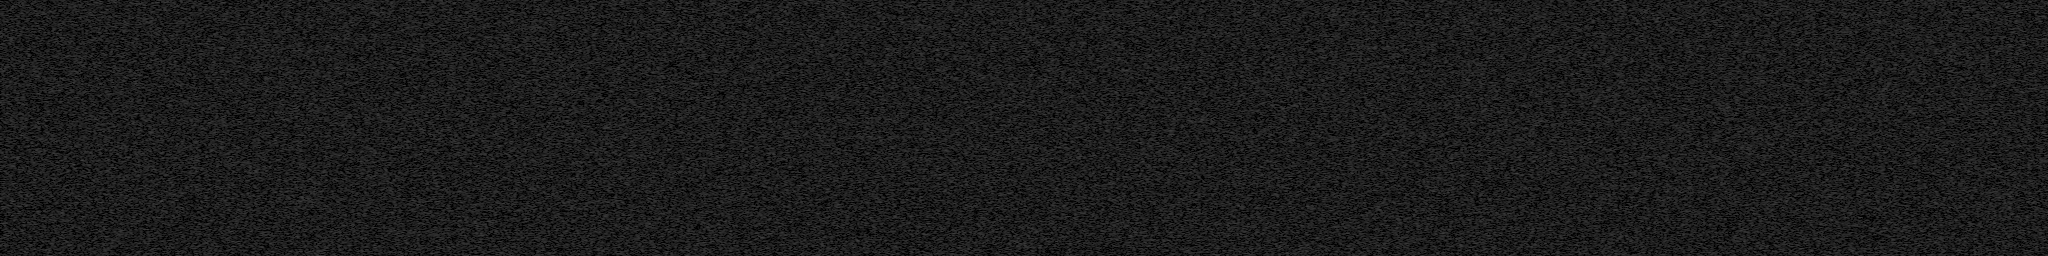wv_cw: (1830, 0, 1836, 256), (653, 0, 660, 256)
wv_dvbt_8kfft: (654, 0, 1462, 256)
wv_usb: (1932, 10, 1937, 256), (1932, 1, 1937, 10)
wv_wbfm: (632, 0, 656, 256)
